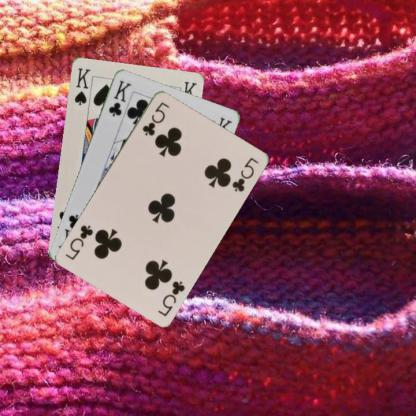5c: (155, 277, 186, 318), (140, 99, 170, 137)
Kc: (106, 78, 133, 118)
Ks: (71, 65, 92, 106)
